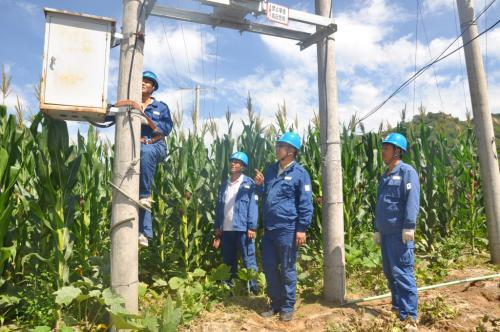helmet: (378, 129, 410, 166), (274, 129, 304, 167), (139, 67, 162, 102), (225, 149, 250, 177)
